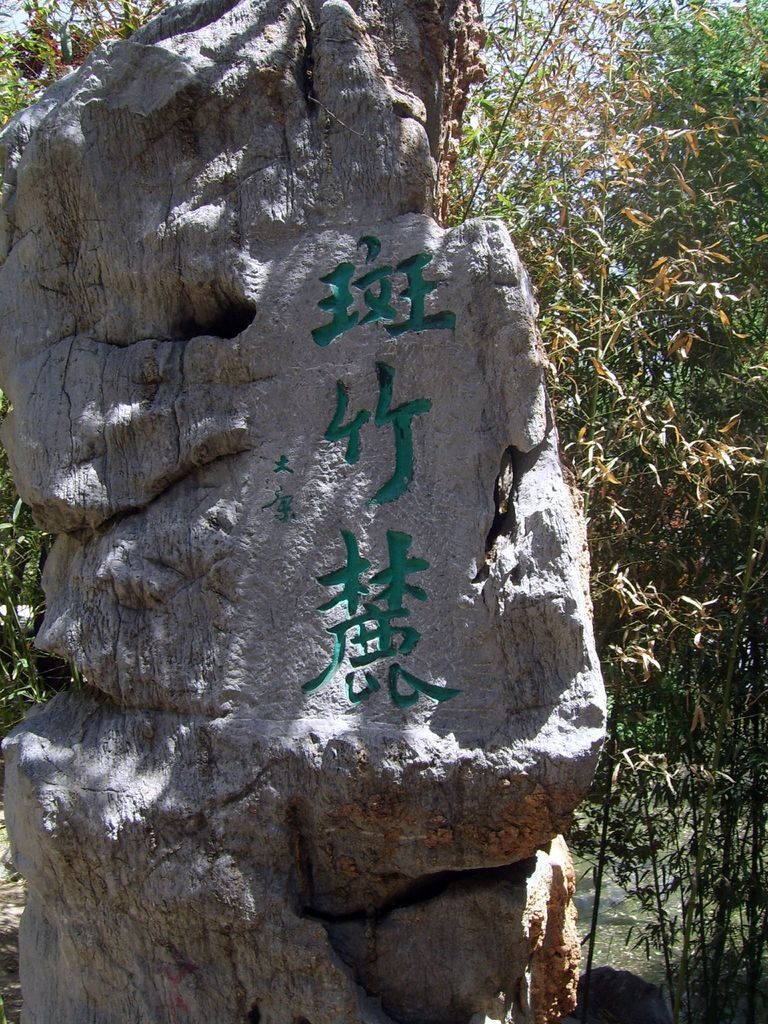Tree: (457, 0, 767, 1023), (3, 0, 195, 721)
